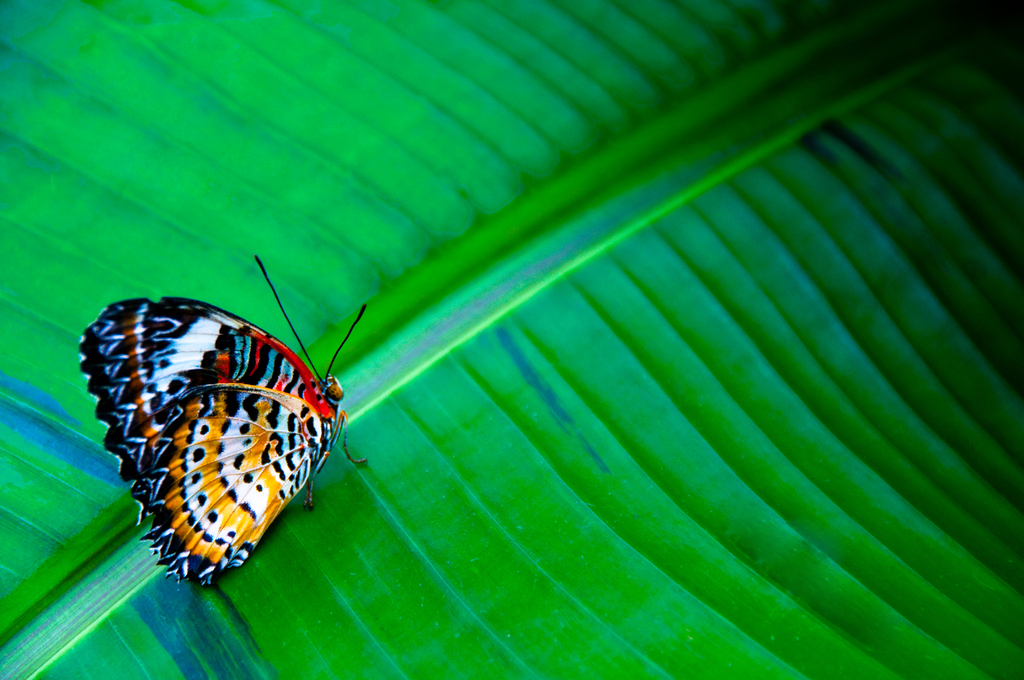Butterfly: (75, 290, 367, 594)
